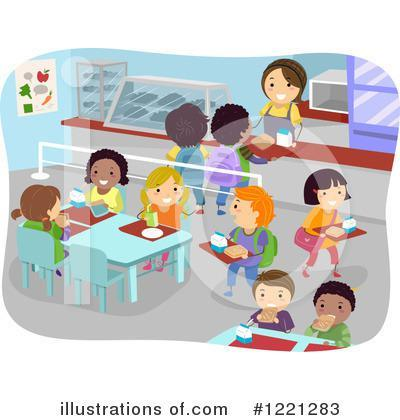chair: (14, 223, 72, 297), (67, 241, 126, 313)
diningtable: (14, 200, 191, 304)
person: (208, 102, 272, 215), (296, 168, 357, 281), (220, 185, 277, 302), (158, 100, 214, 214), (139, 165, 191, 274), (254, 57, 311, 146), (82, 146, 132, 213), (308, 280, 357, 348), (248, 268, 296, 334)
